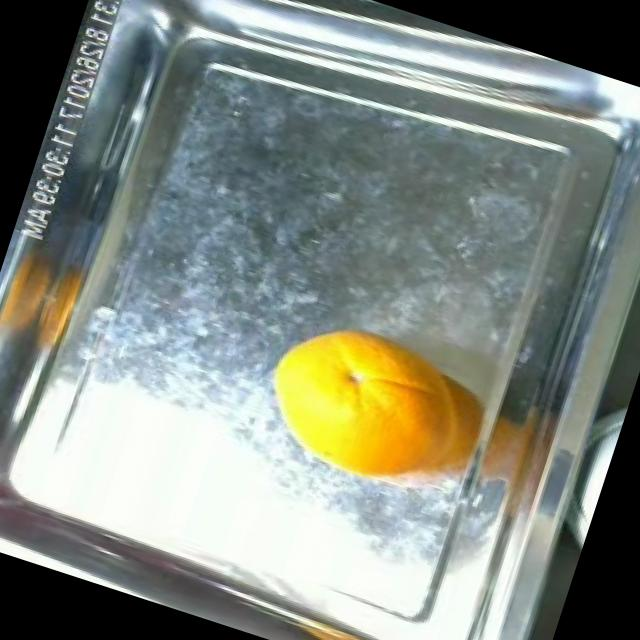Fruit: (232, 292, 469, 514)
